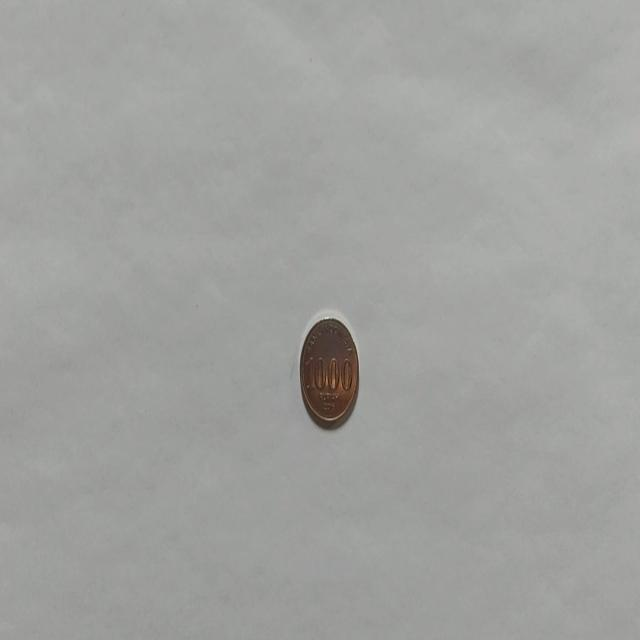seribu rupiah koin: (298, 314, 360, 429)
